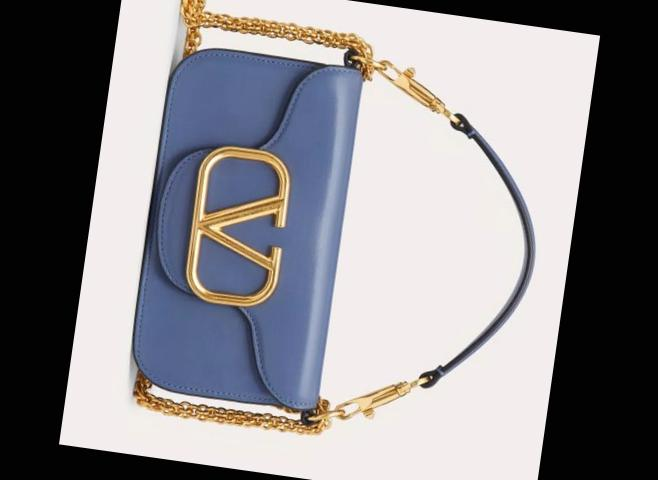VALENTINO: (180, 142, 294, 310)
